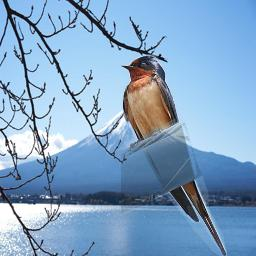Swallow: (121, 54, 227, 256)
